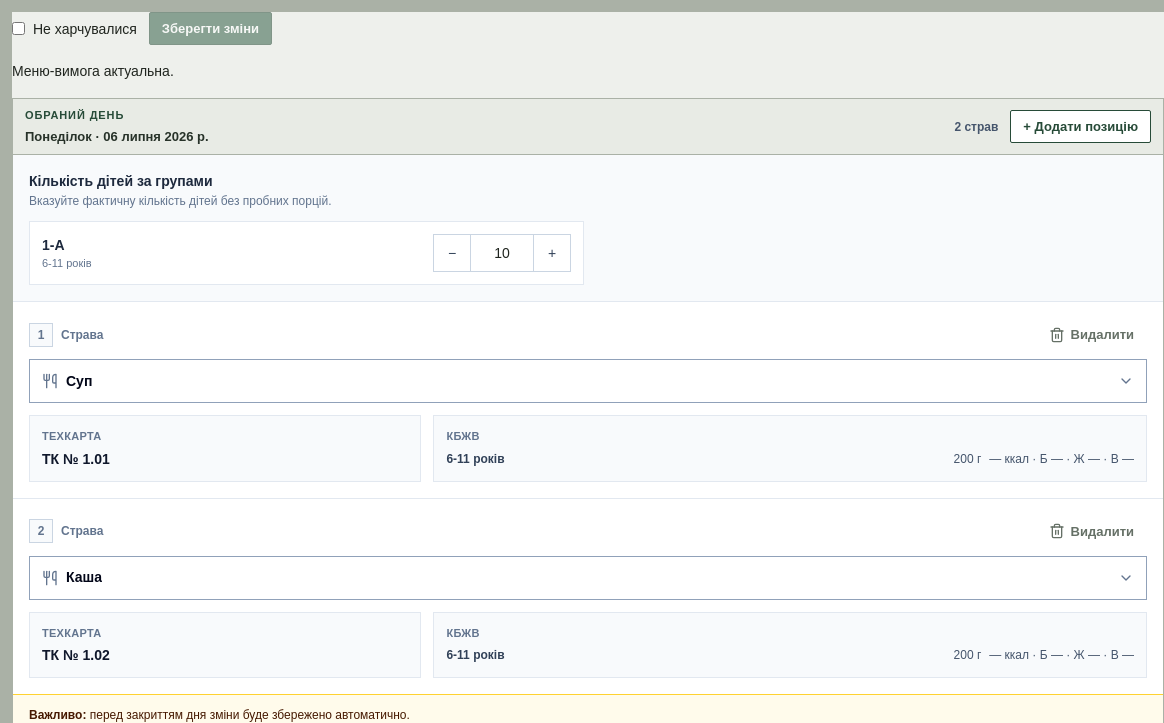
Test: admin daily corrections › save marks stale; confirmed regeneration refreshes dependent queries; another edit marks stale again
Replace the text in the field named "1-А: кількість дітей" with "263" at {"x": 502, "y": 253}, box [470, 235, 534, 271]
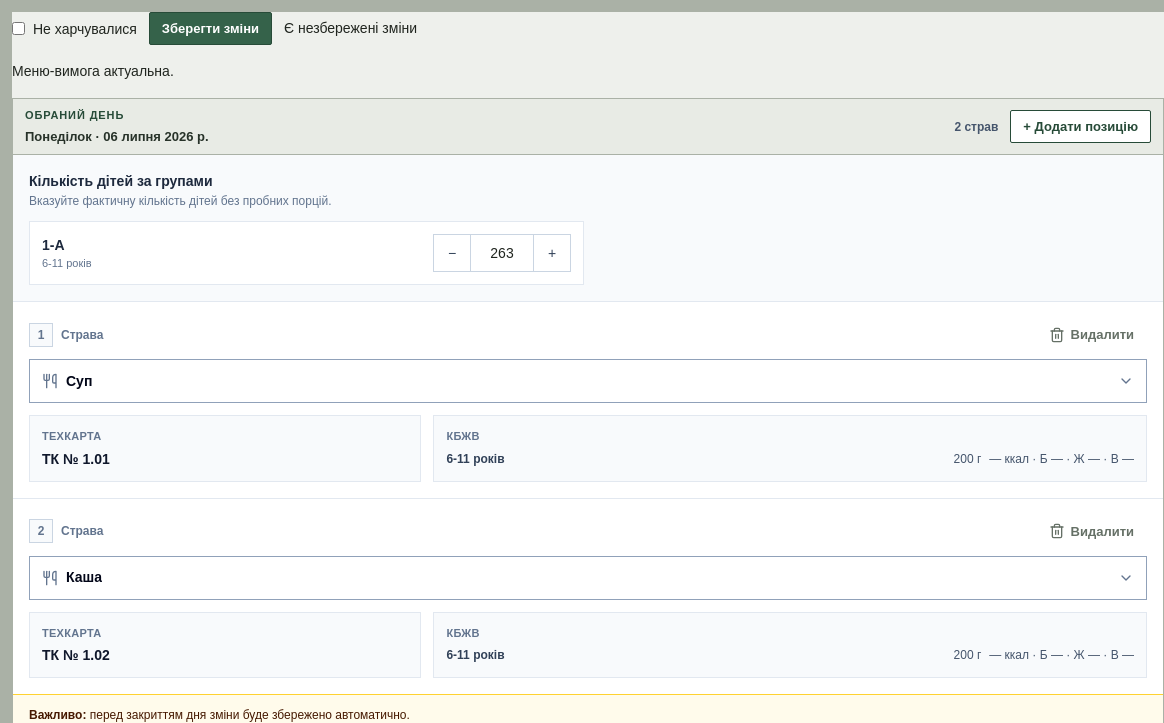
Click the button "Зберегти зміни".
click(210, 28)  # box [149, 12, 272, 45]
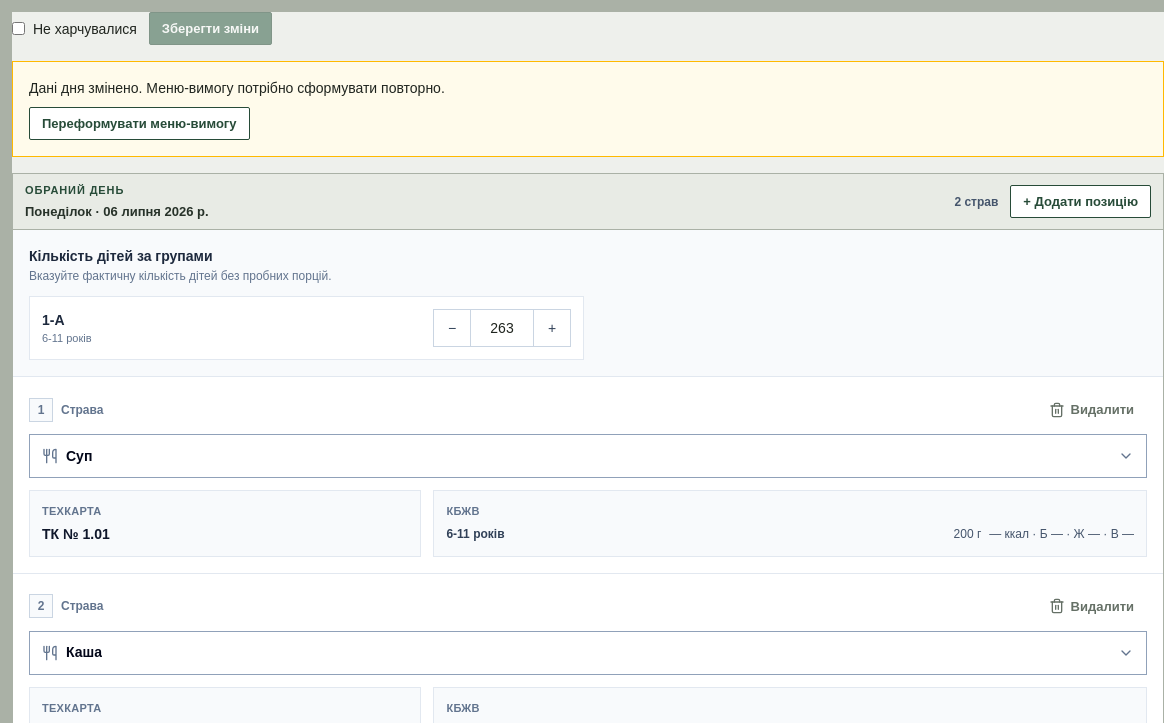
Check: the text "Дані дня змінено. Меню-вимогу потрібно сформувати повторно." is shown, box [29, 80, 445, 96]
Check: the button "Зберегти зміни" is disabled, box [149, 12, 272, 45]
Click the button "Переформувати меню-вимогу".
click(139, 124)  # box [29, 107, 250, 140]
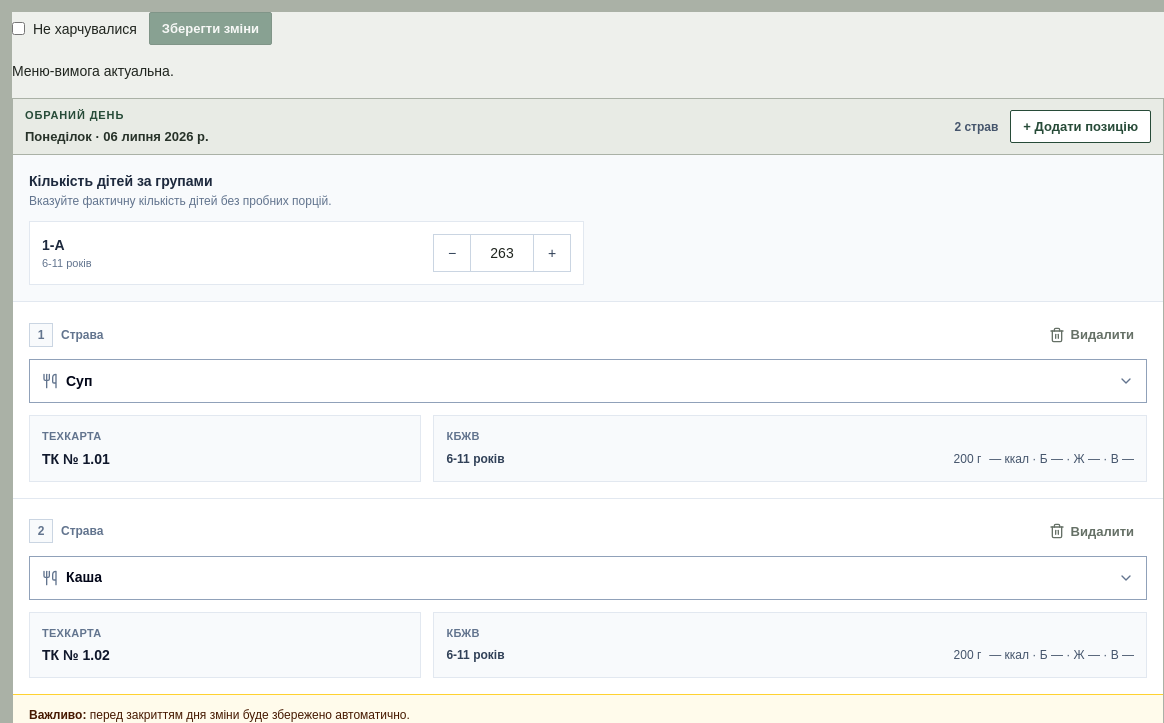
Check: the text "Меню-вимога актуальна." is shown, box [12, 63, 174, 79]
Replace the text in the field named "1-А: кількість дітей" with "250" at {"x": 502, "y": 253}, box [470, 235, 534, 271]
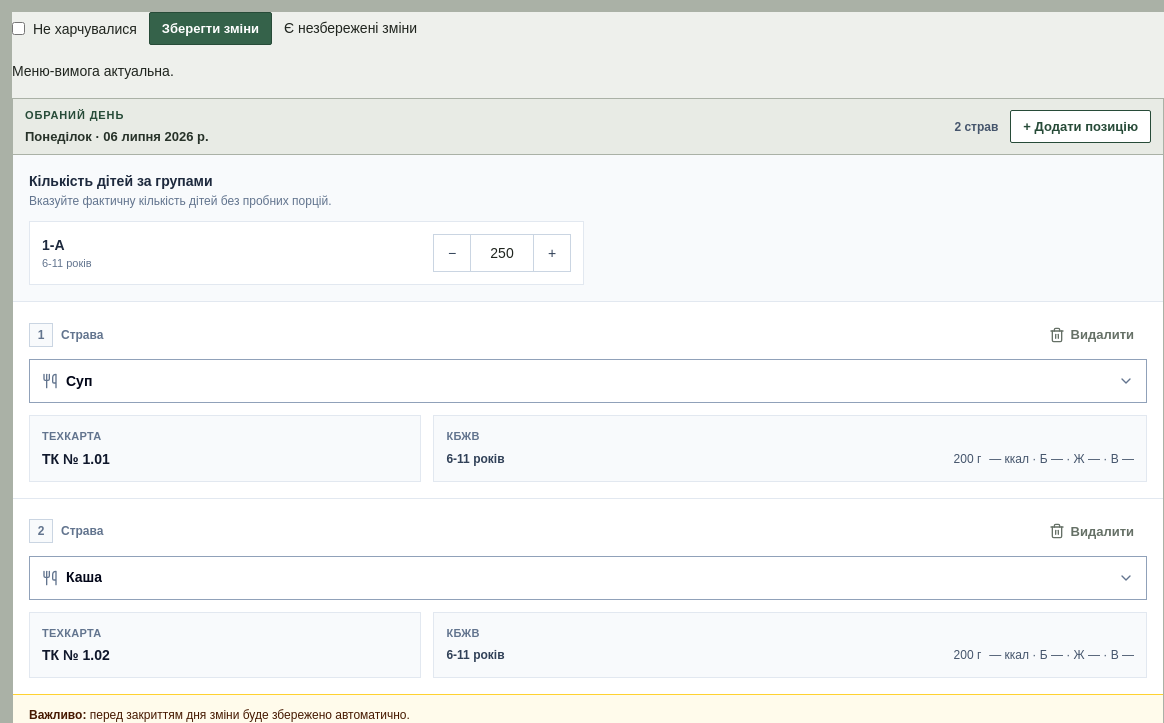
Click the button "Зберегти зміни".
click(210, 28)  # box [149, 12, 272, 45]
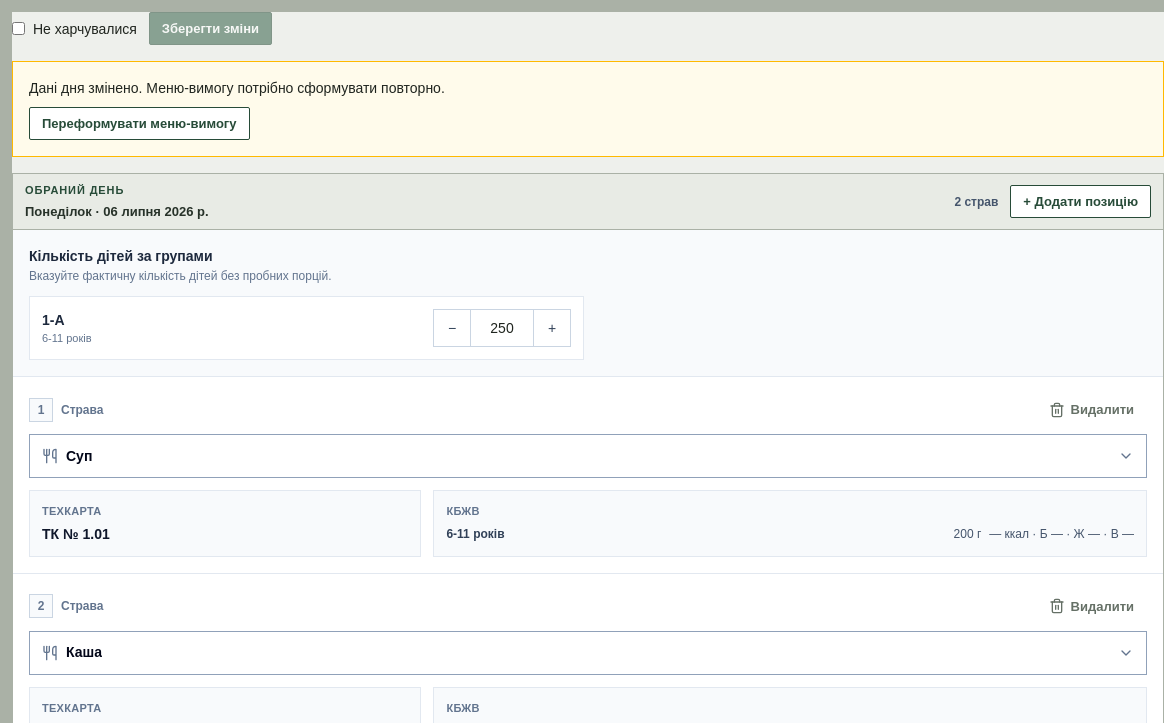
Check: the button "Зберегти зміни" is disabled, box [149, 12, 272, 45]
Check: the text "Дані дня змінено. Меню-вимогу потрібно сформувати повторно." is shown, box [29, 80, 445, 96]
